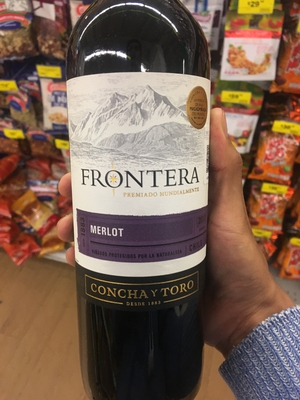frontera merlot: (64, 18, 220, 400)
